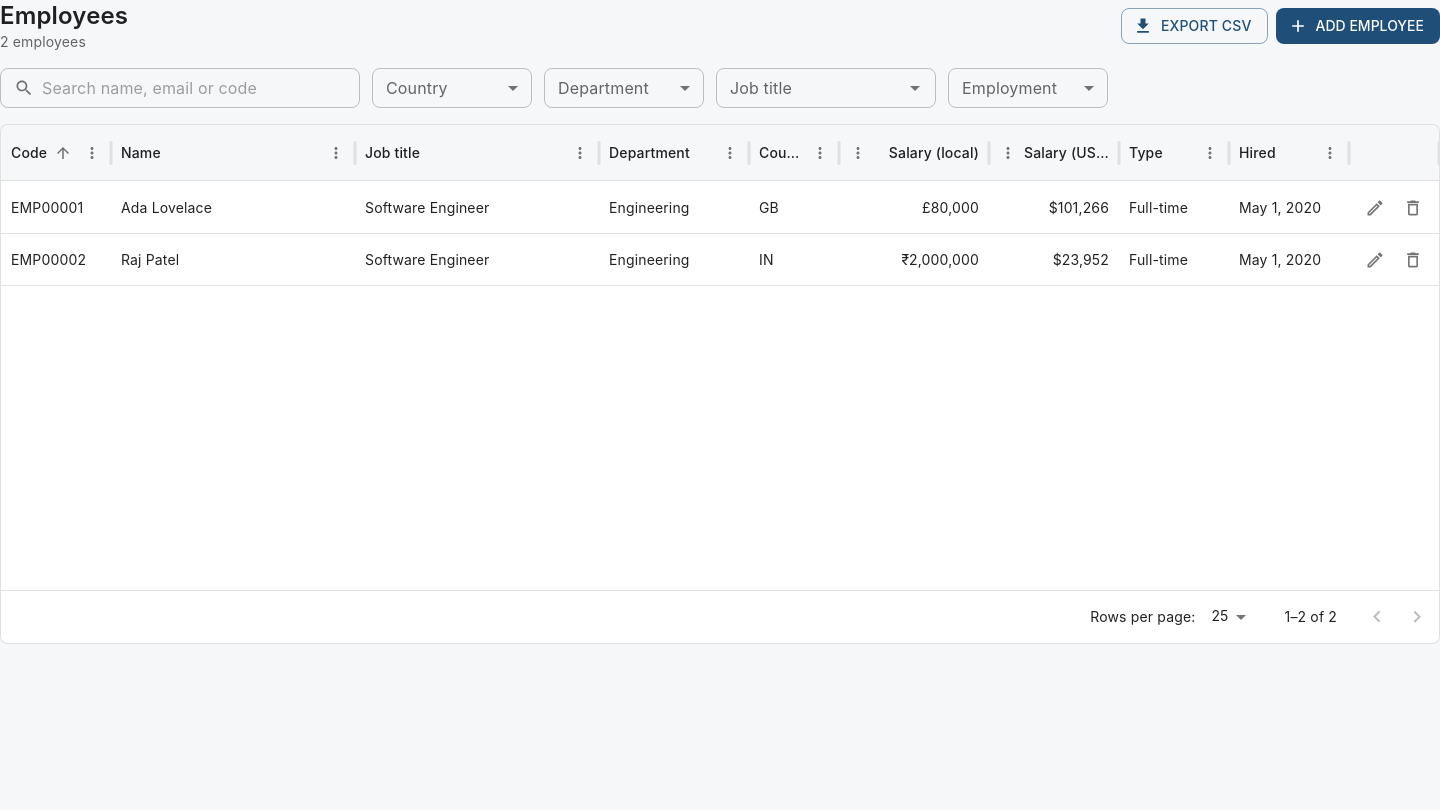
Scenario: EmployeesPage › shows server errors inside the form
Expected: the text "Ada Lovelace" is shown, [121,199,212,216]
Click the menu item named "Edit Ada Lovelace": (1375, 208) [1360,192,1390,222]
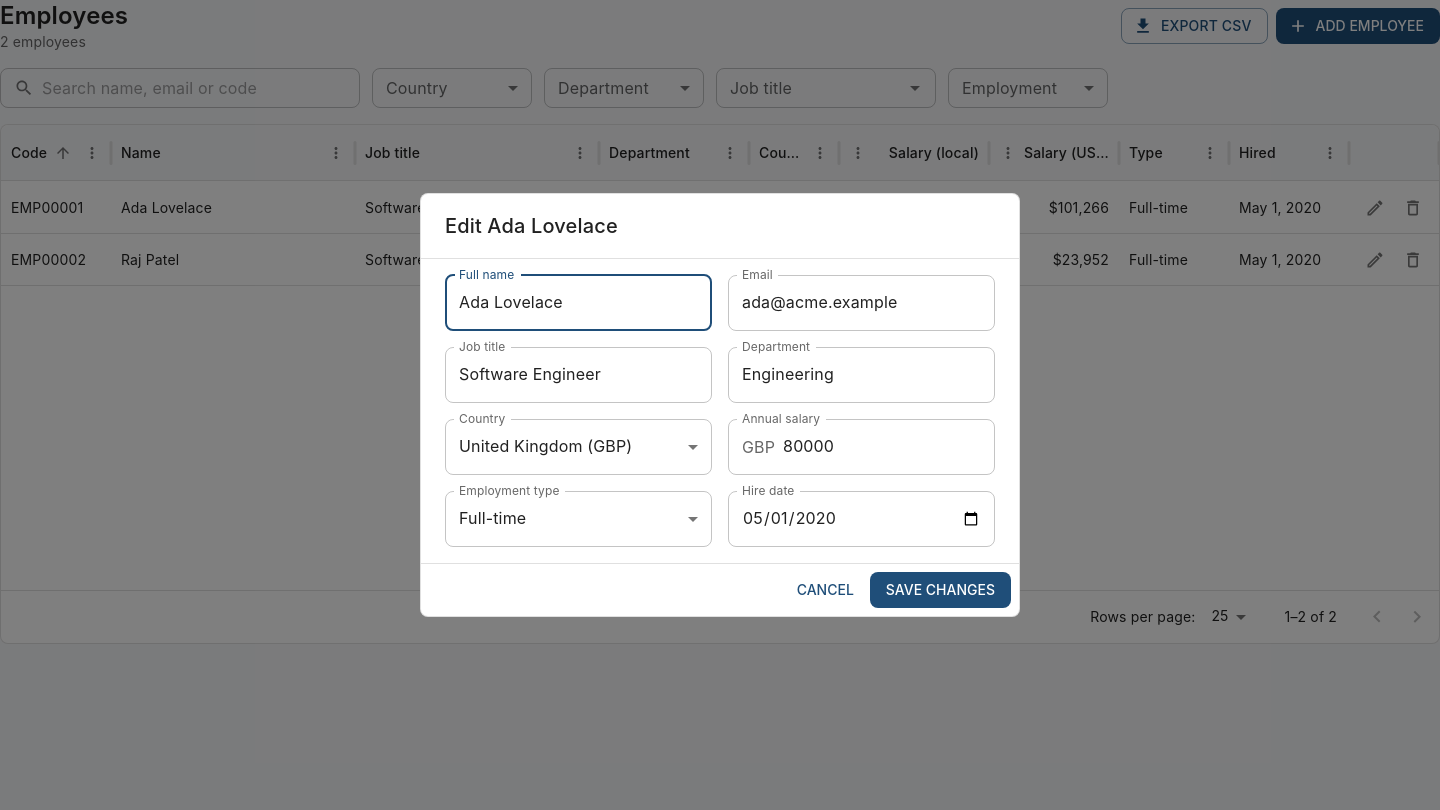
Replace the text in the field labelled "Email" with "taken@acme.example": (862, 303) [728,275,995,331]
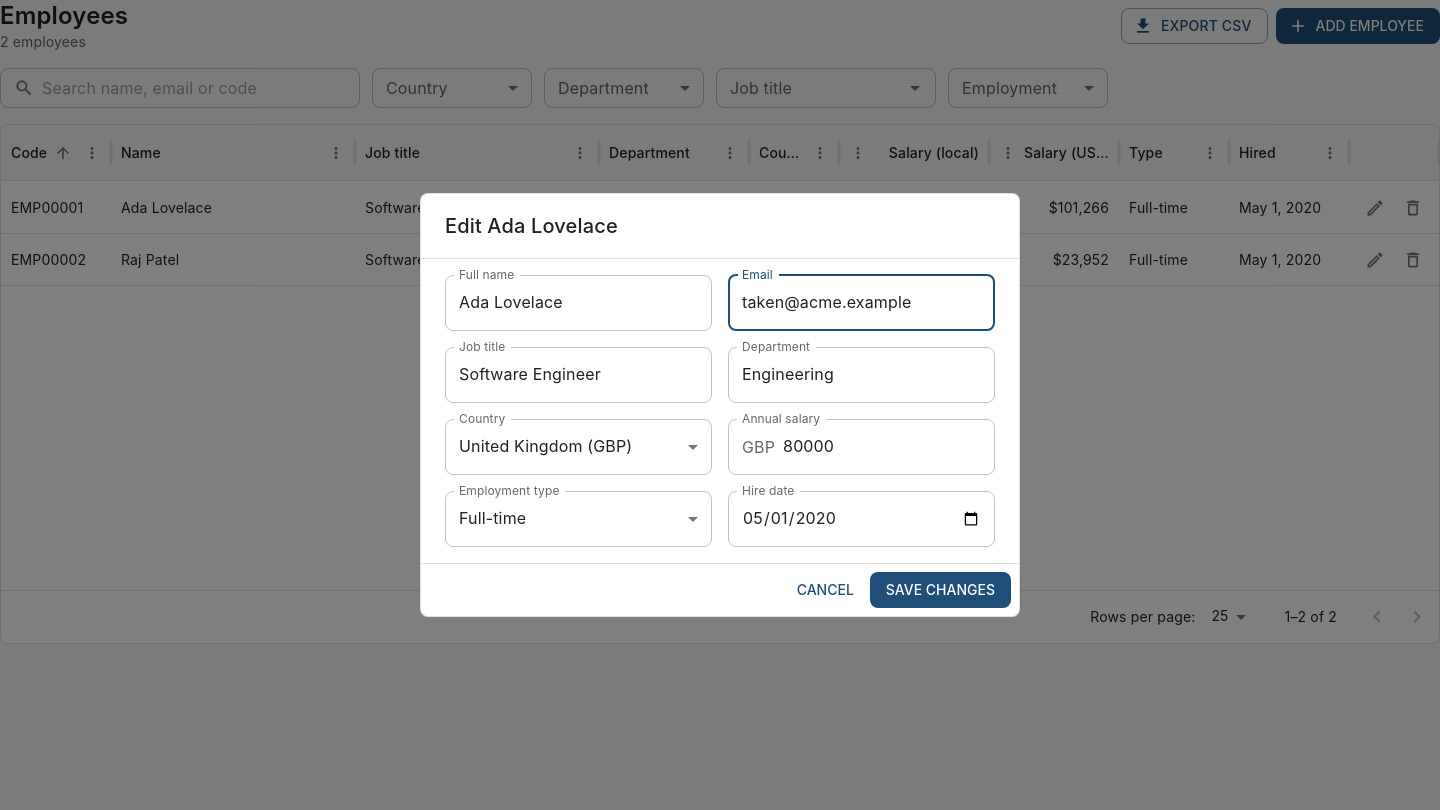
Click the button "Save changes": (940, 590) [870,572,1011,608]
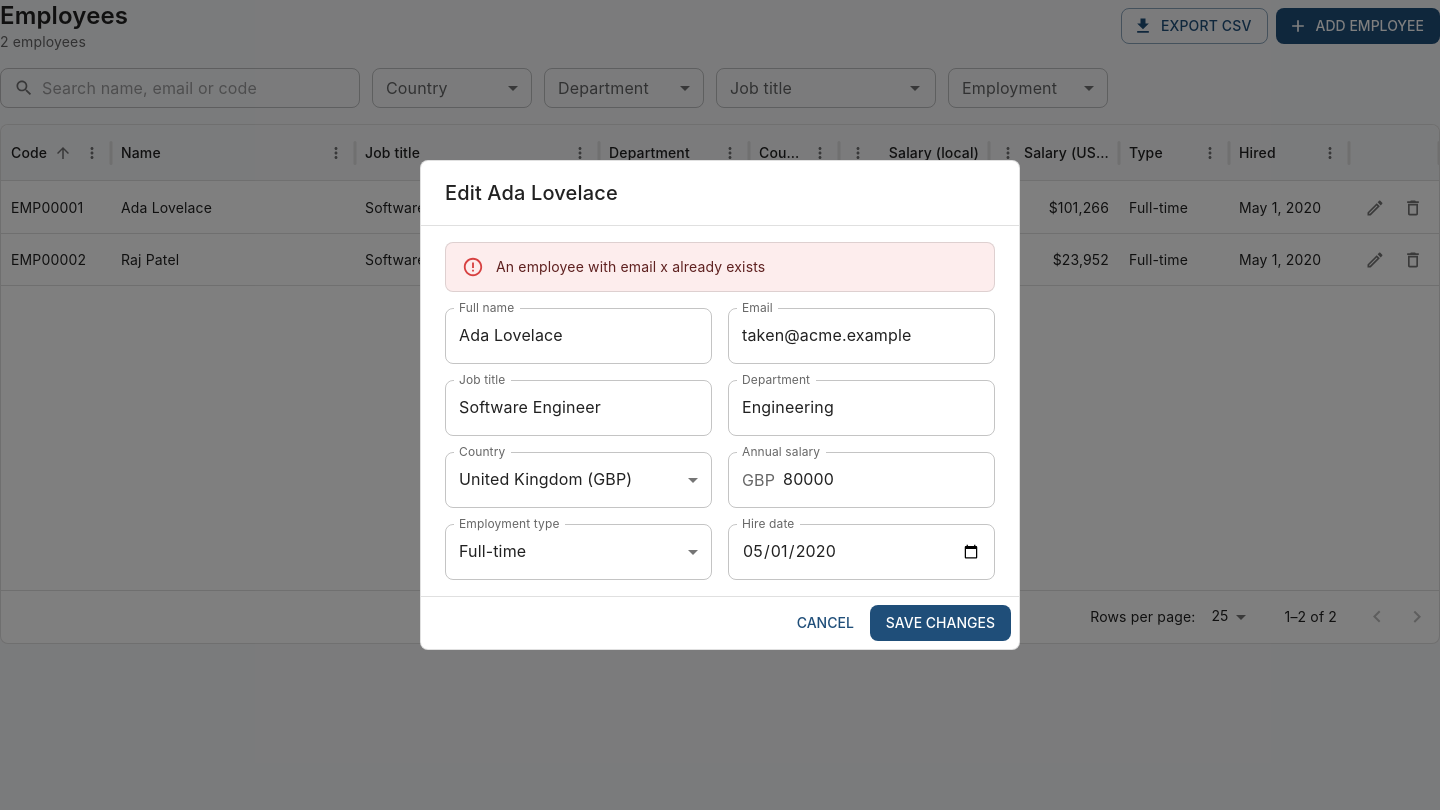
Expected: the text "An employee with email x already exists" is shown, [496,258,765,275]
